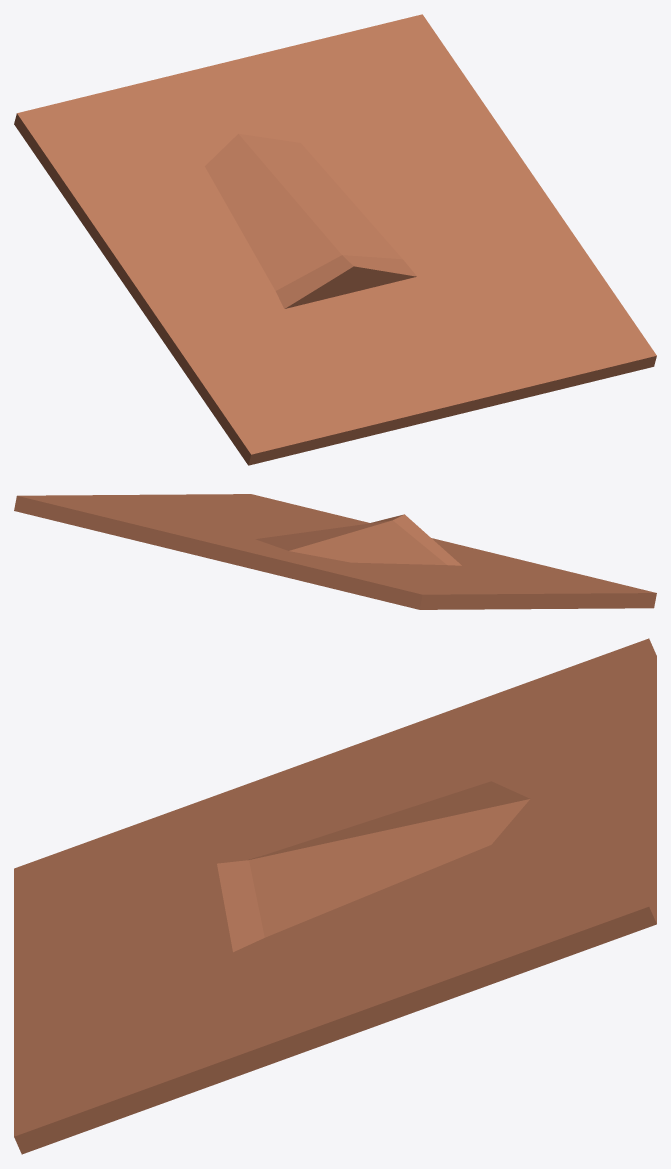
The model's file is empire-roof-small-1m-empire.glb.
The picture shows the model from 3 angles, top to bottom: view 1: azimuth 30°, elevation 25°; view 2: azimuth 150°, elevation 25°; view 3: azimuth 270°, elevation 25°; orthographic projection. The views are drawn at different scales.
Visible parts, largest first — view 1: SM_Roof_Small_1m_Empire; view 2: SM_Roof_Small_1m_Empire; view 3: SM_Roof_Small_1m_Empire.
Boxes of the visible parts, x1,y1,x2,y2 form: SM_Roof_Small_1m_Empire: (14,14,656,465); SM_Roof_Small_1m_Empire: (14,494,656,609); SM_Roof_Small_1m_Empire: (14,638,656,1154).
Size of the model in its own units: 1.5 by 0.6467 by 1.52.
